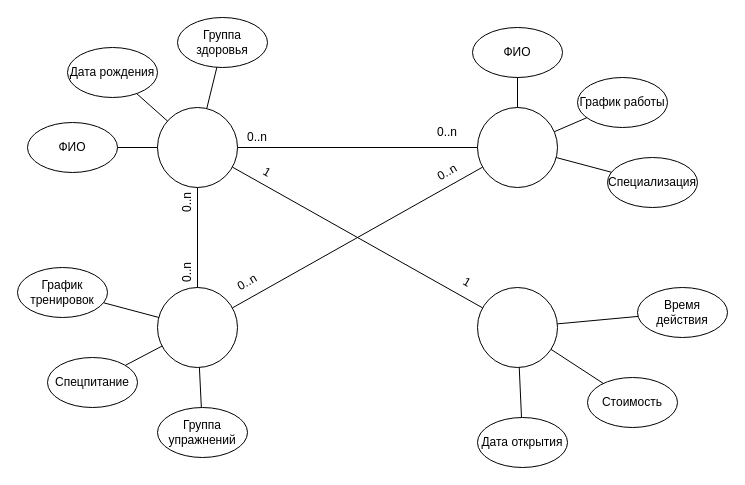
This 745x485 diagram has some shape labels left out. The shapes that lost their labels are listed below. From the top down, each one's centre as x and y in pixels, then its label:
pixel 197 147: Клиент
pixel 517 147: Тренер
pixel 197 327: Программа тренировок
pixel 517 327: Абонемент
